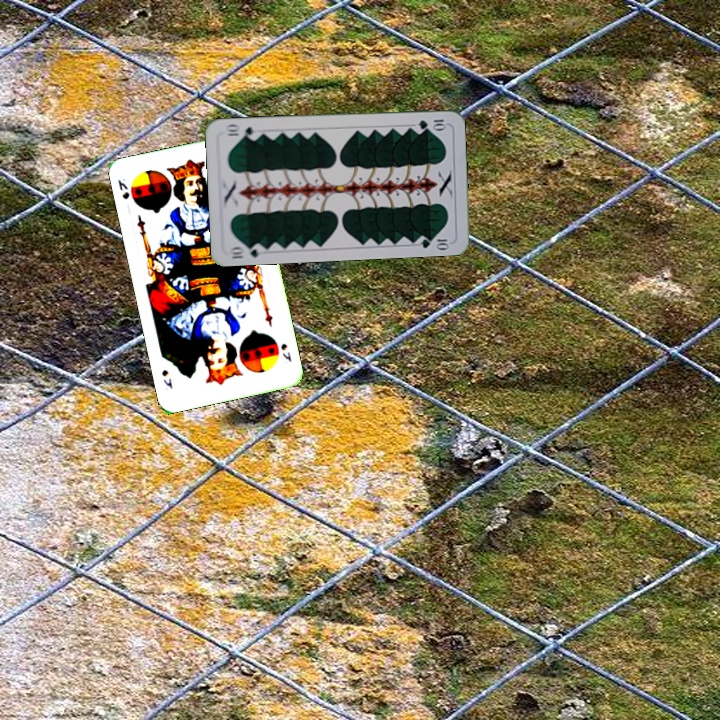G10: (225, 240, 266, 261), (415, 115, 449, 131)
SK: (114, 174, 132, 202), (277, 339, 294, 364)
